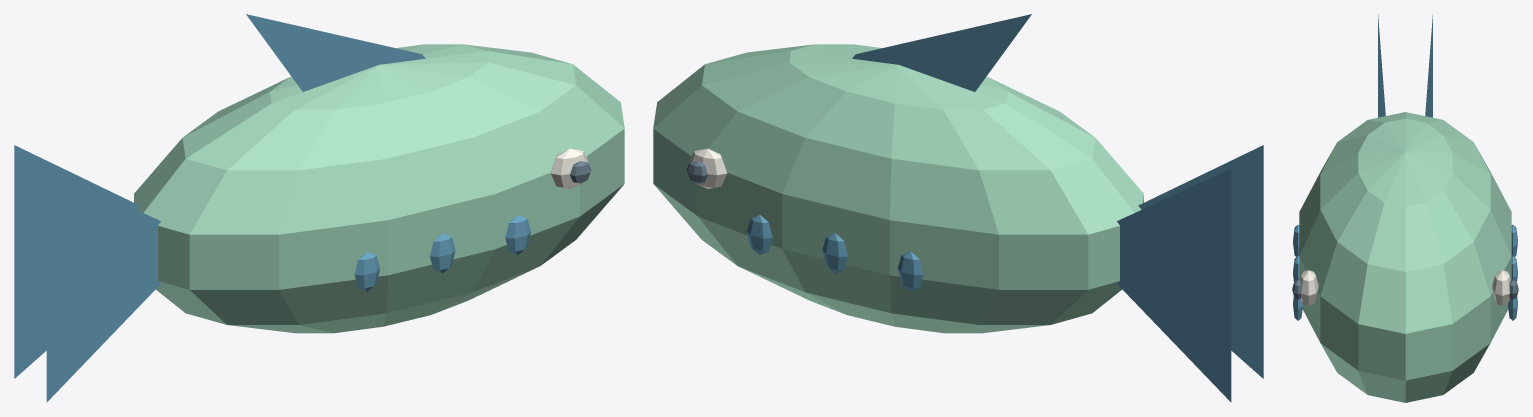
Rendered from pez_mediano.glb.
3 renders of one model, left to right at view 1: azimuth 30°, elevation 25°; view 2: azimuth 150°, elevation 25°; view 3: azimuth 270°, elevation 25°, orthographic. The views are drawn at different scales.
Visible parts, largest first — view 1: pez_mediano; view 2: pez_mediano; view 3: pez_mediano.
Boxes of the visible parts, <box> form: pez_mediano: <box>14,14,624,402</box>; pez_mediano: <box>653,14,1263,402</box>; pez_mediano: <box>1292,15,1518,402</box>.
Size of the model in its own units: 1.15 by 0.6174 by 0.4519.
